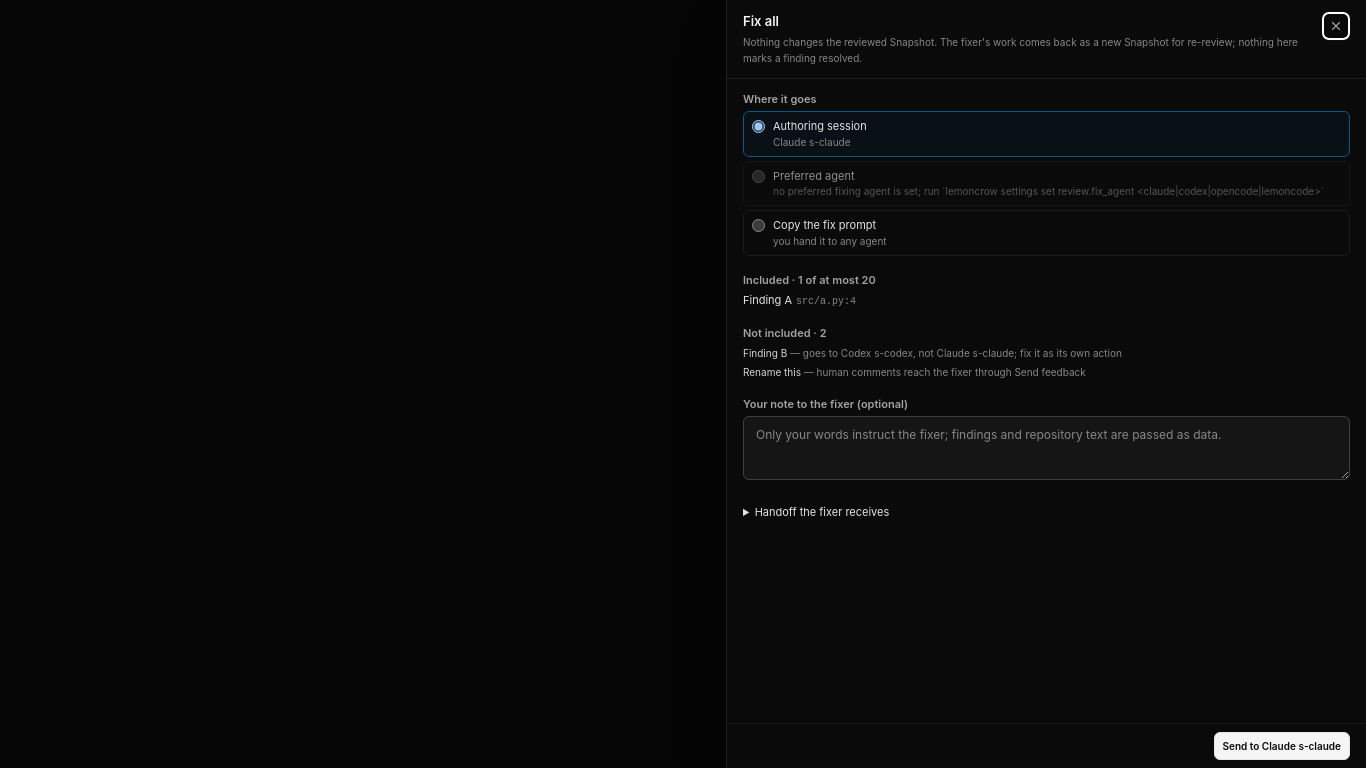
ReviewFixSheet › re-previews a reviewer note before it can be sent
The width and height of the screenshot is (1366, 768).
expect the button "Send to Claude s-claude" is shown: met, box [1214,732,1350,760]
Type "Prefer a guard clause" into the text box labelled "Your note to the fixer (optional)" at (1046,448), box [743,416,1350,480]
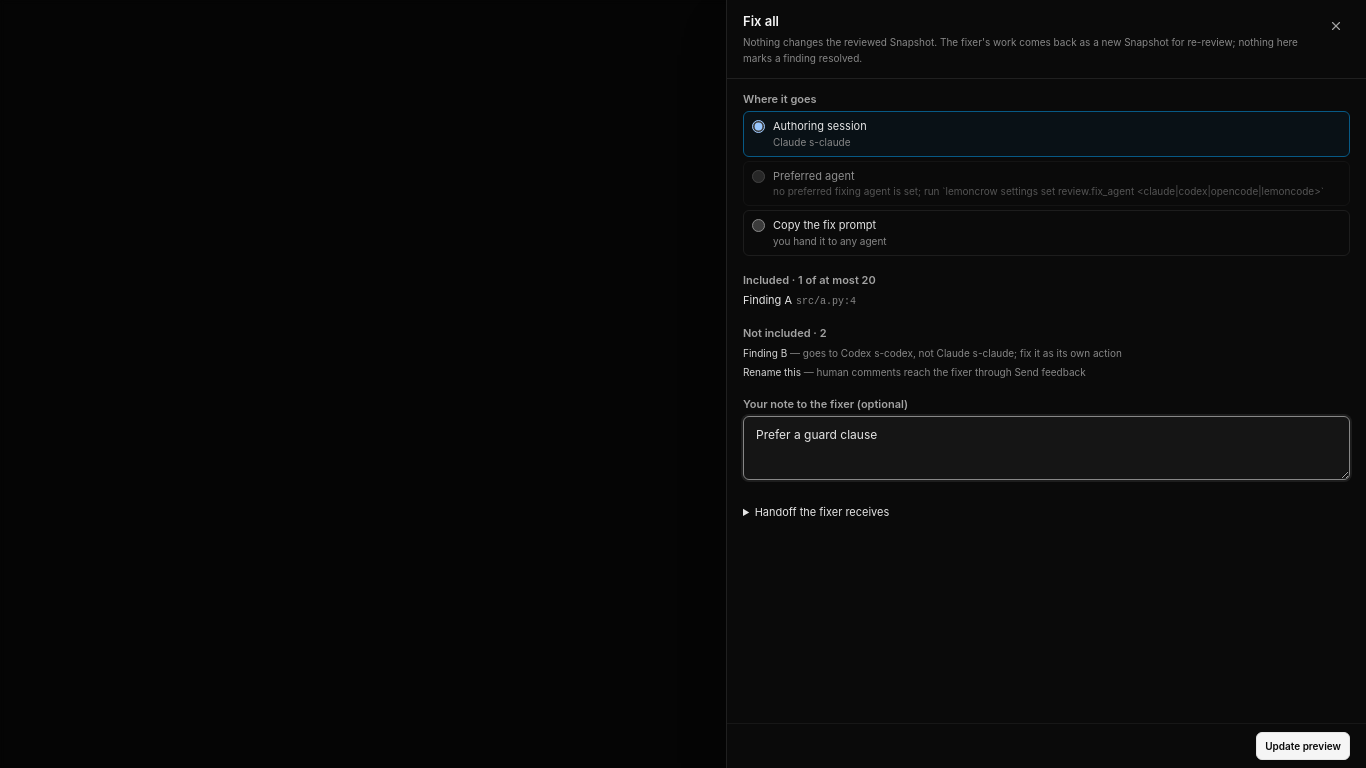
expect the button "Send to Claude s-claude" is gone: met
Click the button "Update preview" at (1303,746), box [1256,732,1350,760]
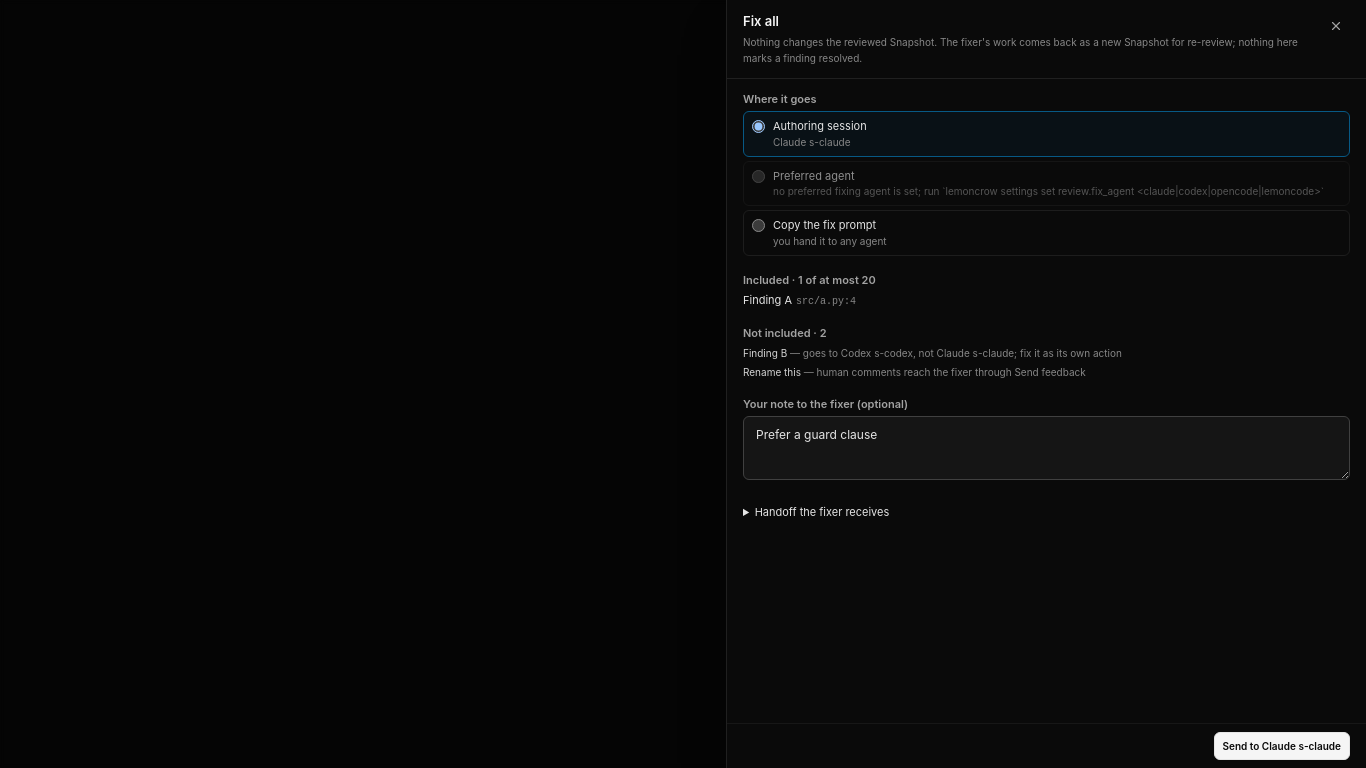
expect the button "Send to Claude s-claude" is shown: met, box [1214,732,1350,760]
